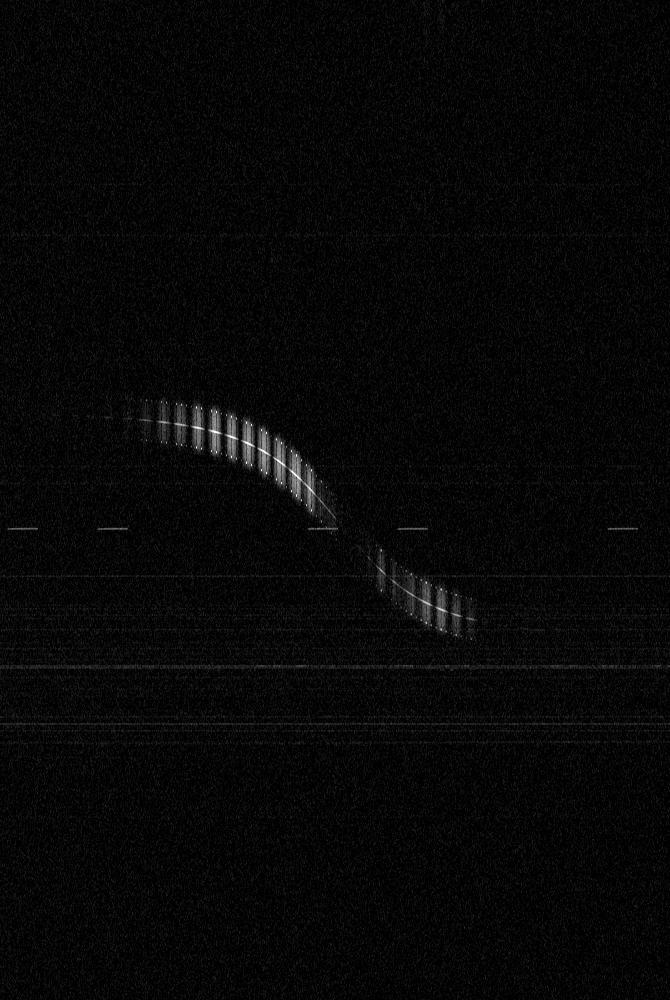signal: (0, 0, 669, 999)
